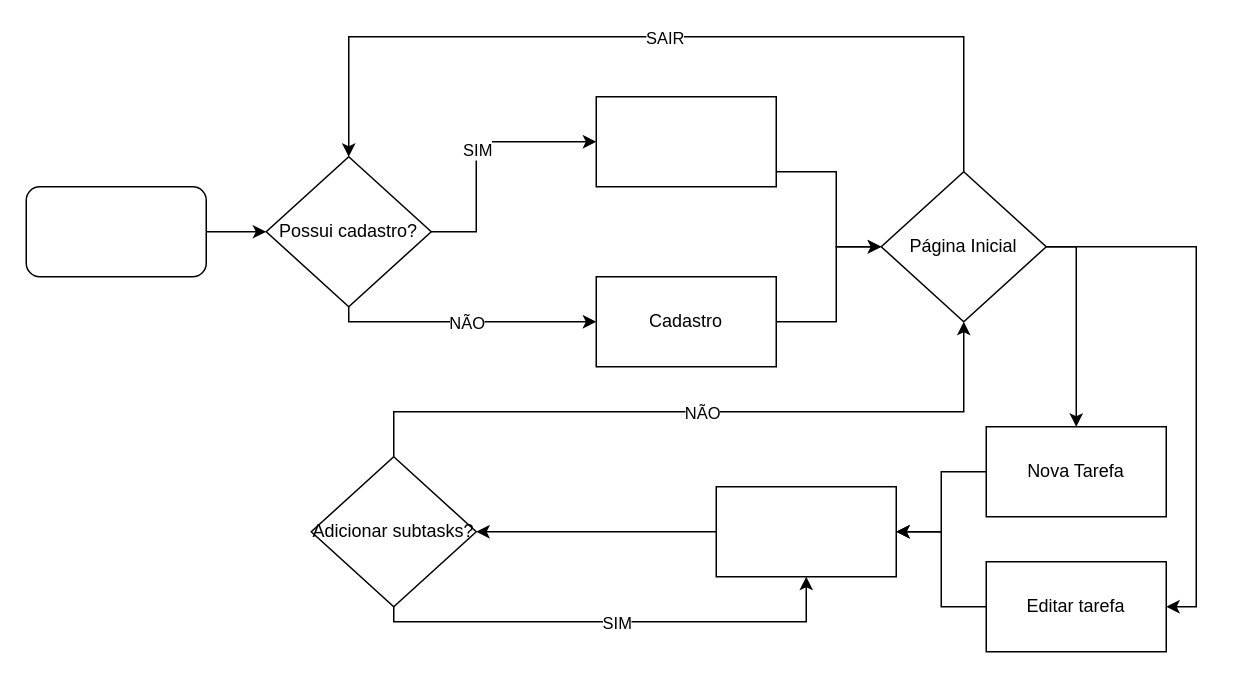
The diagram is 1235 pixels wide and 678 high, and some of its shapes have lost their labels. Each missing label, with the box of its shape:
Descrever tarefa e definir prazo: (715, 485, 896, 577)
Início: (25, 185, 206, 277)
Login: (595, 95, 776, 187)
